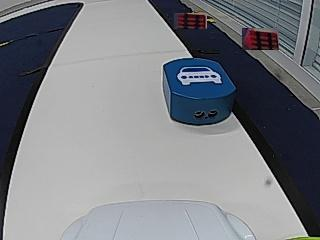safety: (177, 65, 224, 85)
